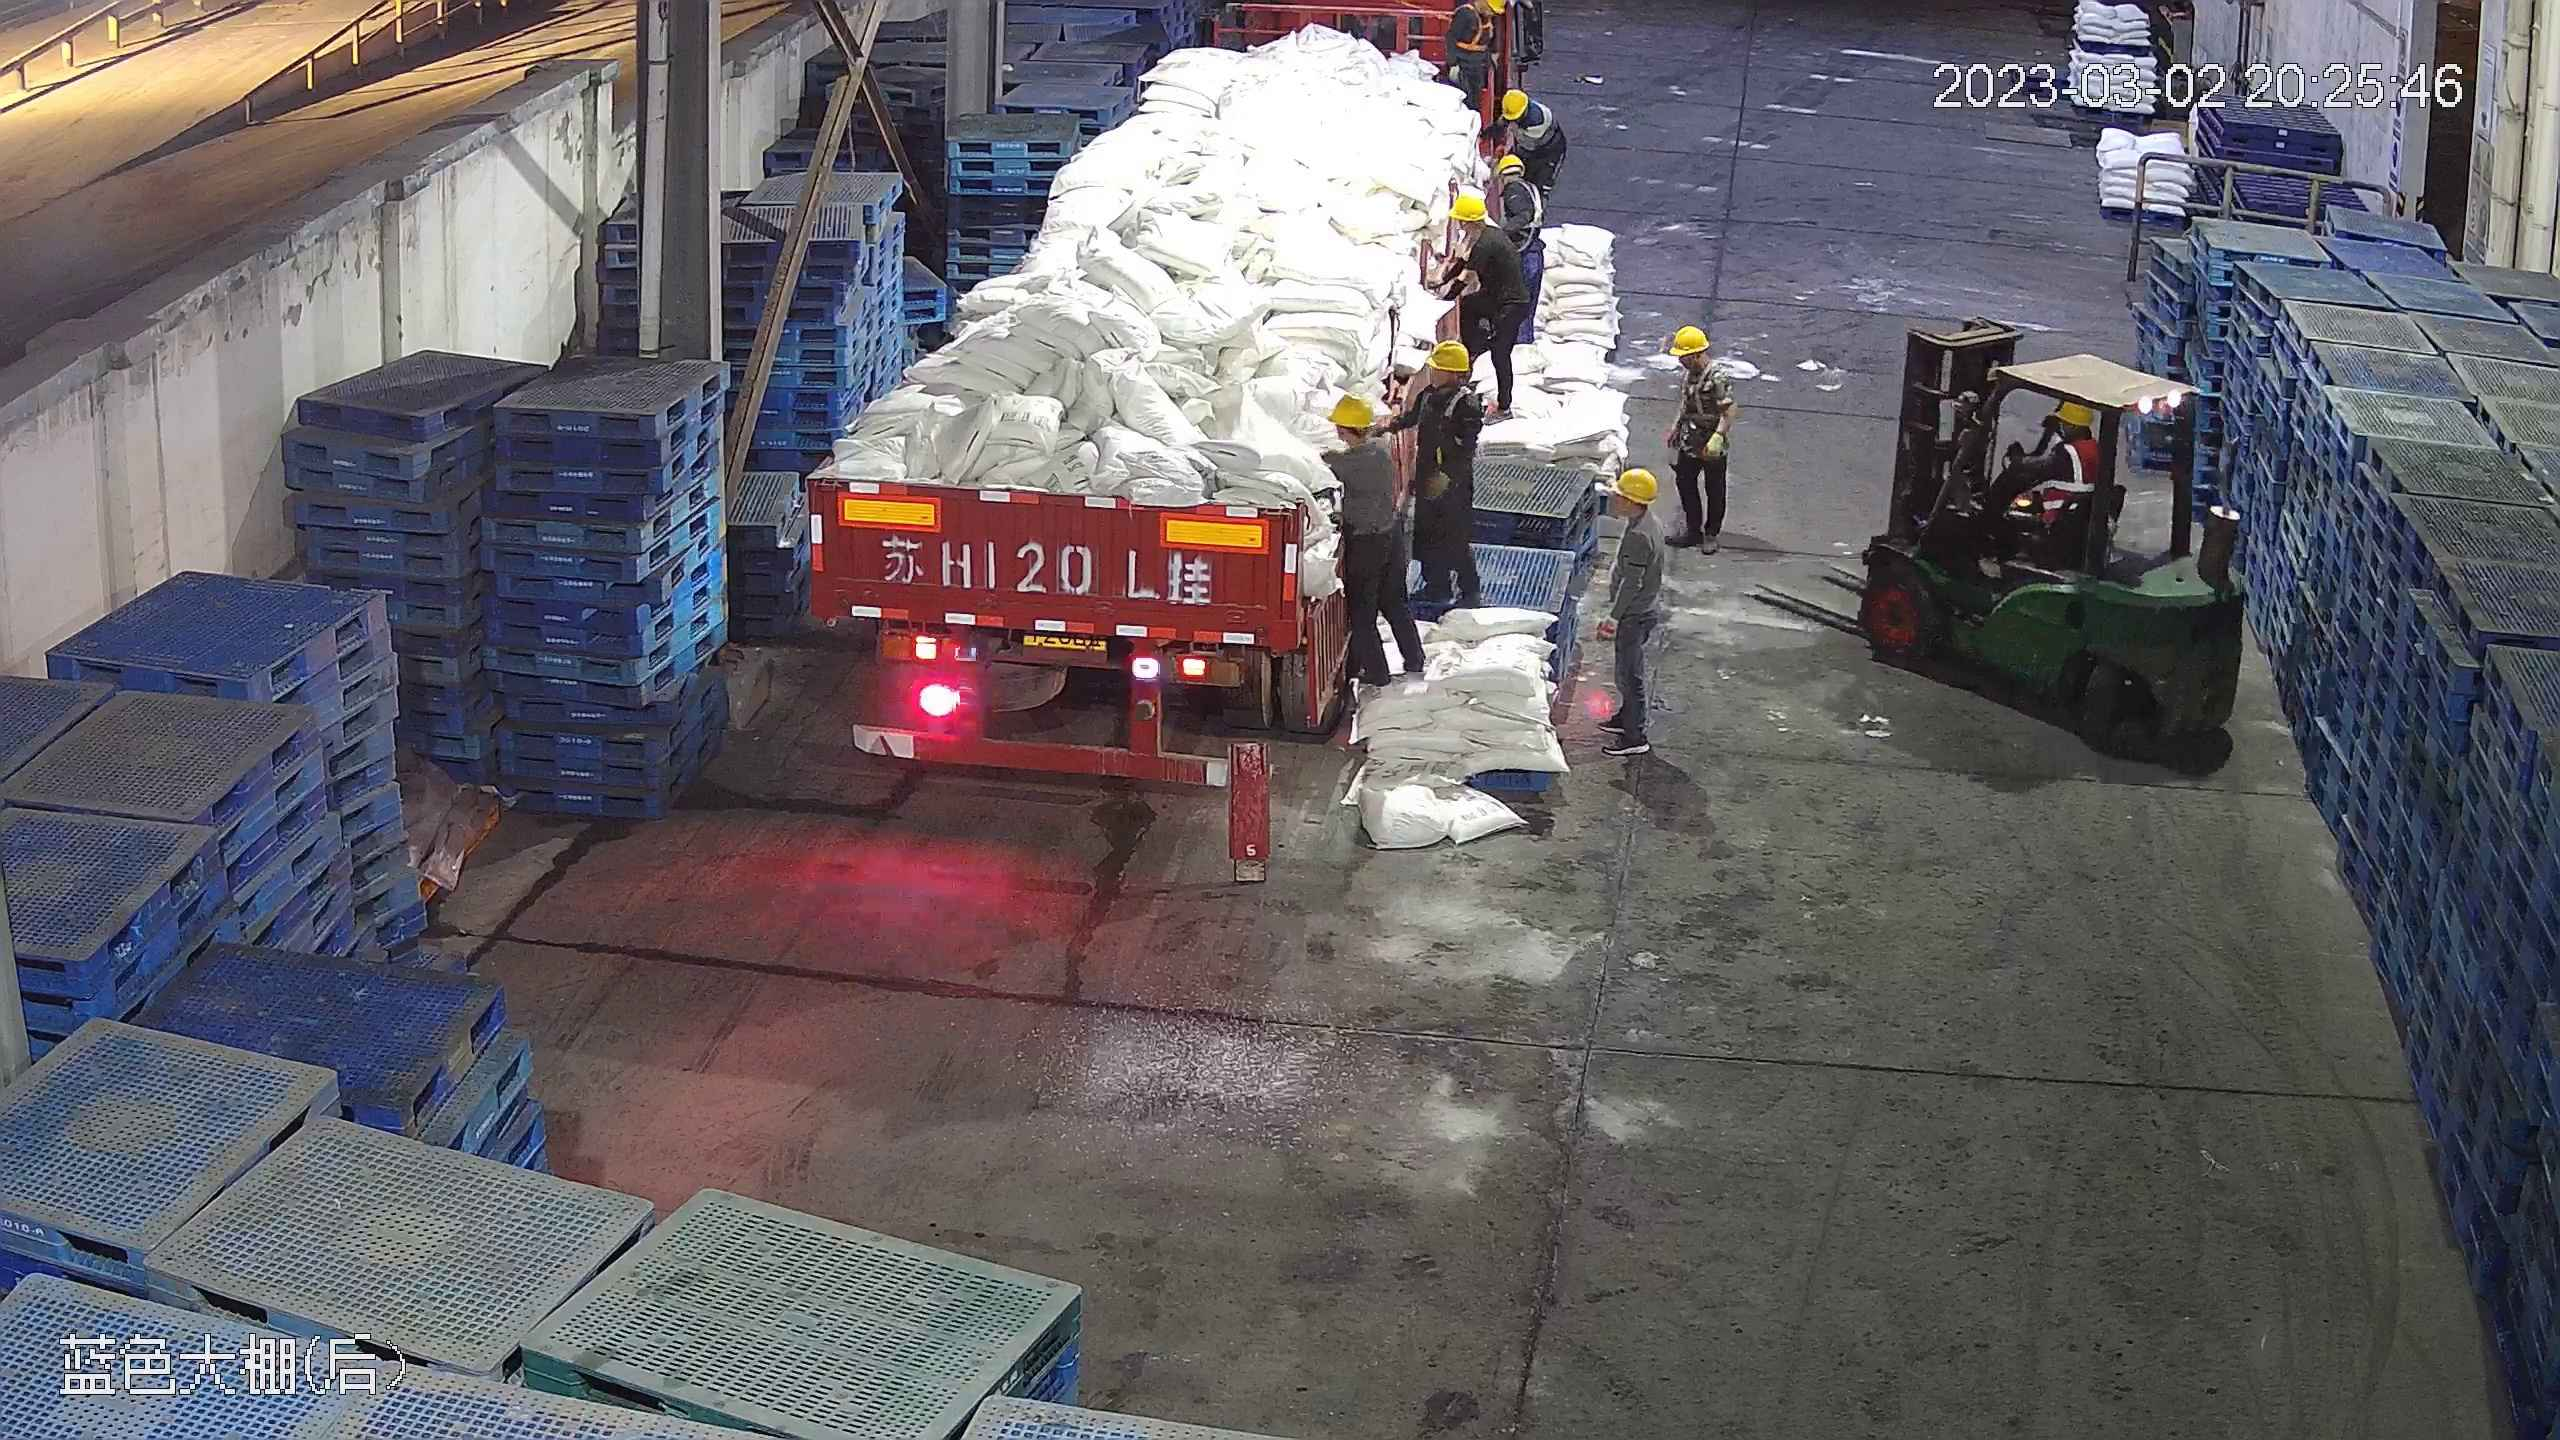belt: (1680, 363, 1722, 422), (1461, 5, 1506, 50), (1424, 382, 1475, 418), (1511, 182, 1544, 239), (1460, 7, 1494, 56)
head: (1315, 391, 1398, 487), (1408, 339, 1486, 428), (1598, 465, 1664, 562), (1441, 188, 1517, 265), (2035, 397, 2104, 479), (1665, 325, 1734, 405), (1495, 85, 1553, 135), (1461, 1, 1511, 39)
helmet: (1324, 392, 1379, 431), (1610, 466, 1658, 502), (1425, 337, 1474, 373), (1670, 325, 1712, 355), (1450, 189, 1488, 221), (2054, 398, 2092, 427), (1495, 87, 1526, 118), (1493, 154, 1526, 178), (1478, 1, 1507, 20)
people: (1320, 389, 1421, 695), (1585, 465, 1671, 753), (1401, 336, 1485, 630), (1431, 180, 1529, 430), (1662, 324, 1738, 559), (1493, 154, 1548, 343), (1497, 82, 1567, 195)
truck: (792, 7, 1455, 791)
